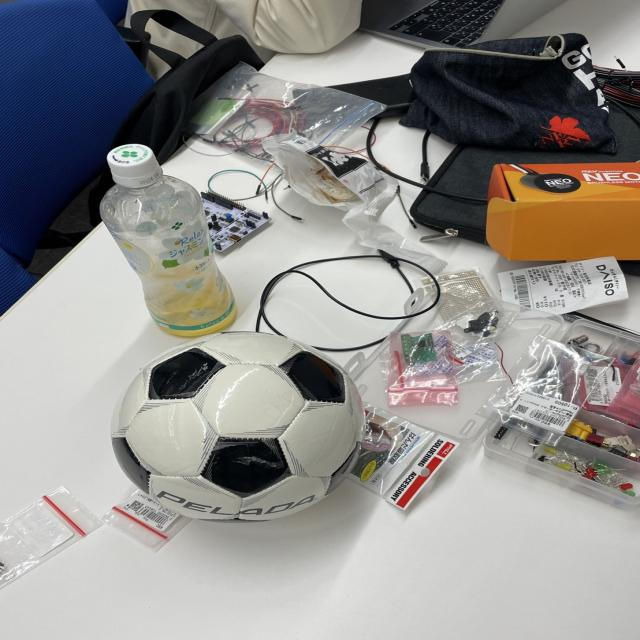ball: (112, 332, 366, 522)
